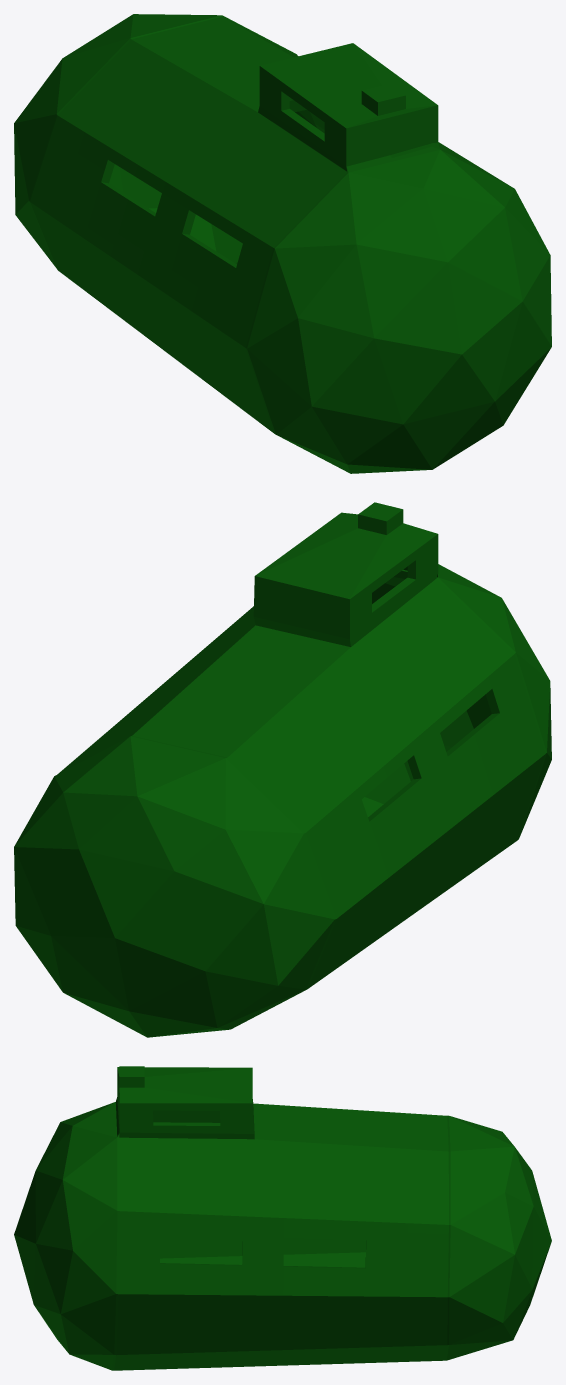
File: submarine.obj
3 renders of one model, top to bottom at view 1: azimuth 30°, elevation 25°; view 2: azimuth 150°, elevation 25°; view 3: azimuth 270°, elevation 25°, orthographic. The views are drawn at different scales.
Parts seen in each view (by area): view 1: Cylinder; view 2: Cylinder; view 3: Cylinder.
Boxes of the visible parts, x1,y1,x2,y2 form: Cylinder: (14,14,551,473); Cylinder: (14,502,551,1037); Cylinder: (14,1066,551,1370).
Size of the model in its own units: 2.04 by 2.29 by 3.97.
